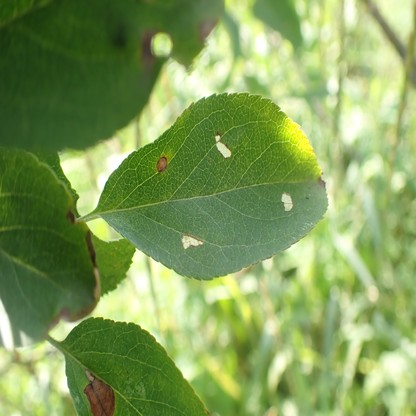frogeye_leaf_spot: (82, 369, 114, 416), (85, 230, 101, 304), (148, 32, 175, 58), (215, 132, 232, 159), (199, 19, 217, 43), (181, 234, 203, 249), (282, 191, 294, 212), (156, 157, 168, 173), (66, 205, 75, 223)
